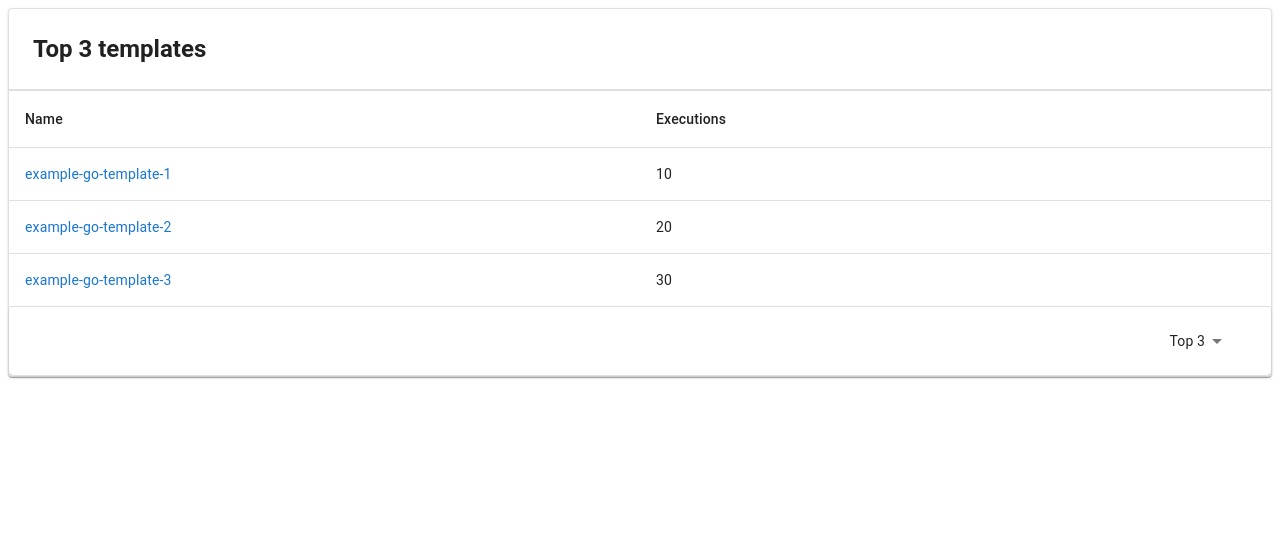
Test: Templates › should handle pagination correctly
Click the dropdown. click: [1187, 340]
box: [1170, 332, 1205, 348]
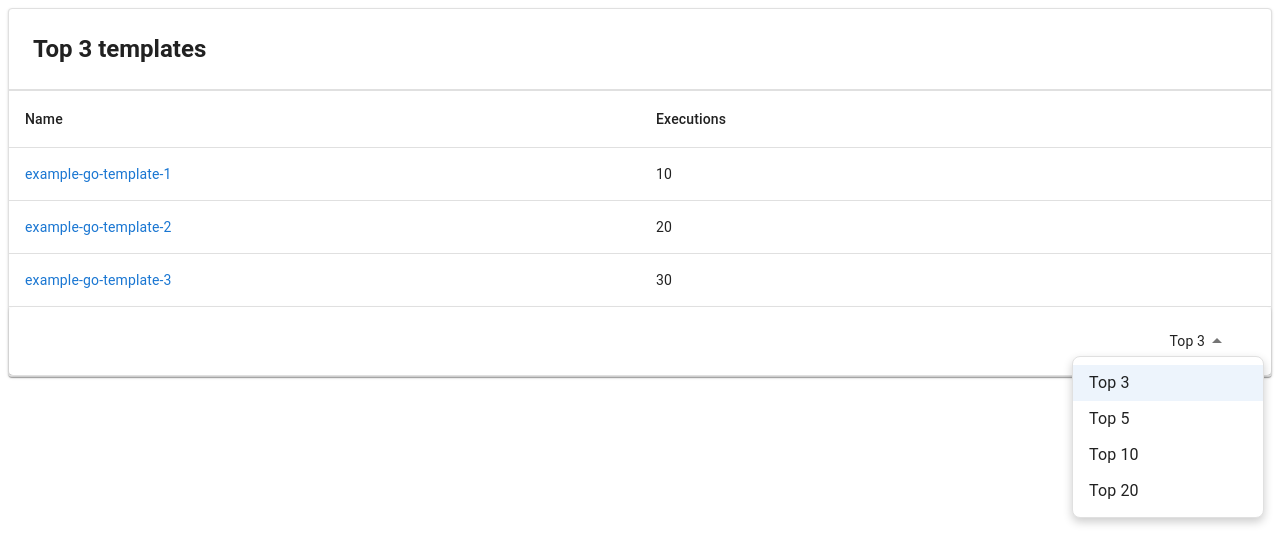
Click the option "Top 5". click: [1109, 418]
box: [1089, 409, 1130, 428]
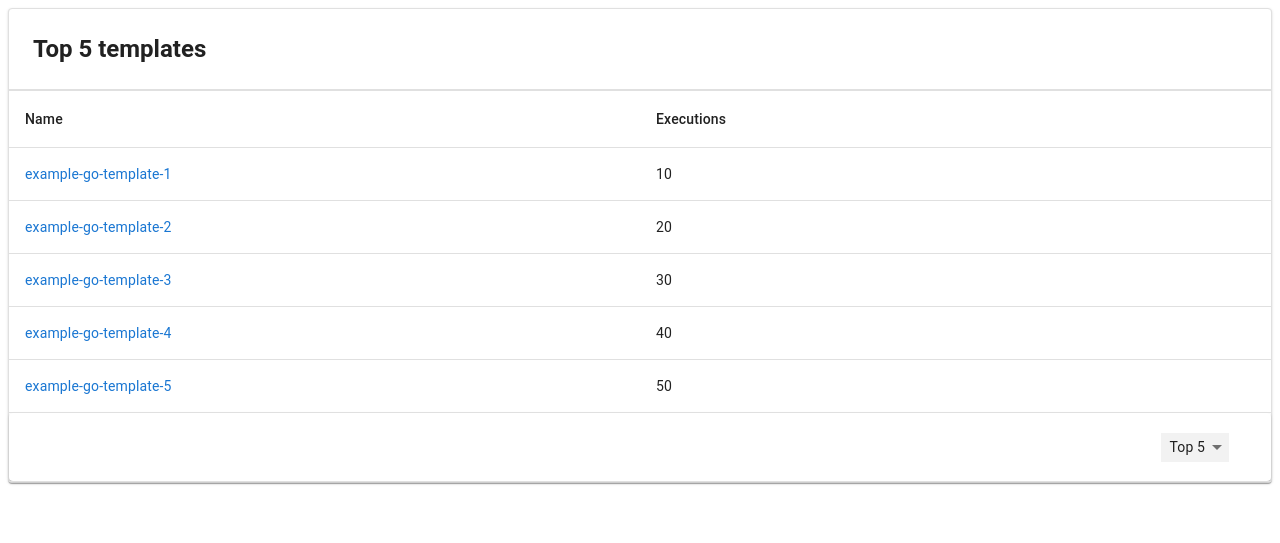
Check: the heading "Top 5 templates" is shown, box [33, 35, 206, 63]
